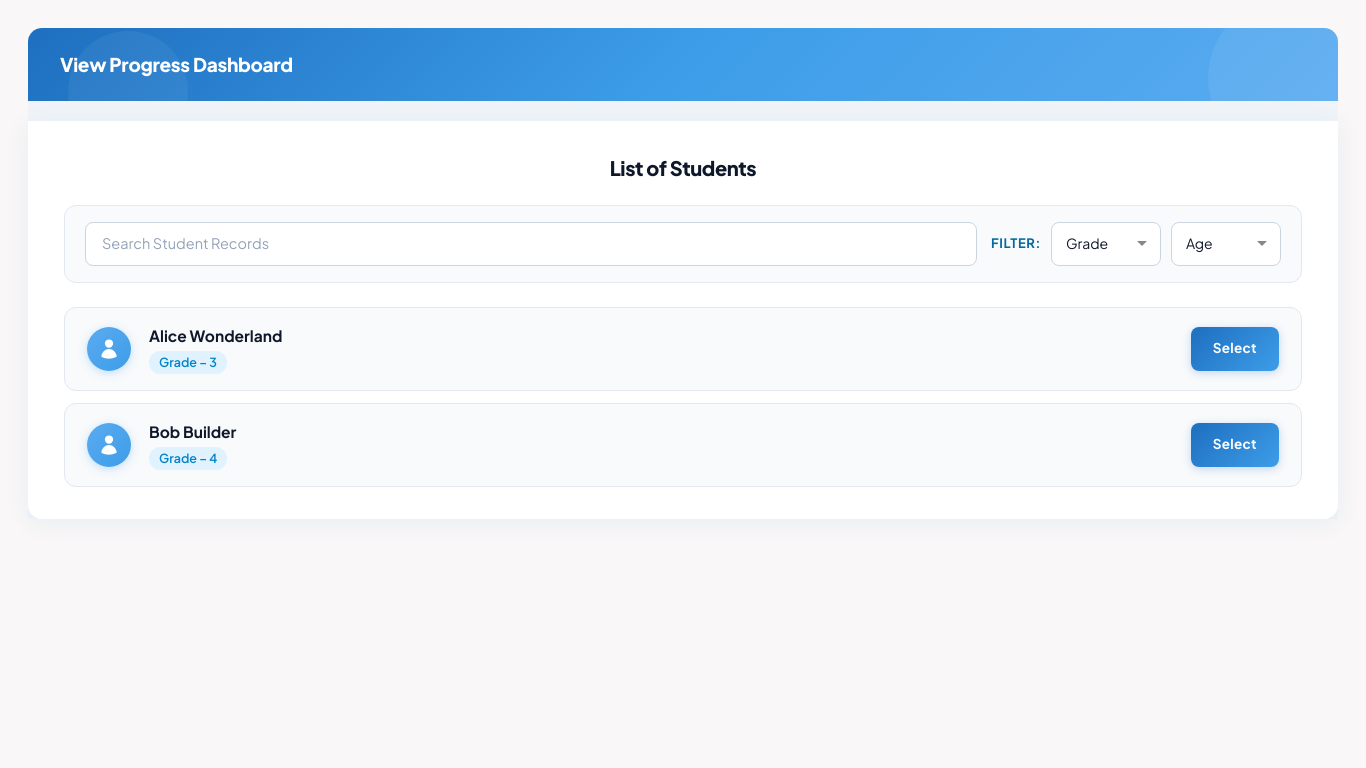
ViewProgressDashboard › renders Executive KPI Summary Cards with aggregate mastery rate and goal counts
Expected: the text "Alice Wonderland" is shown, [149, 326, 282, 344]
Click the button "Select" in the row of "Alice Wonderland". click: (1235,348)
box: [1191, 326, 1279, 370]
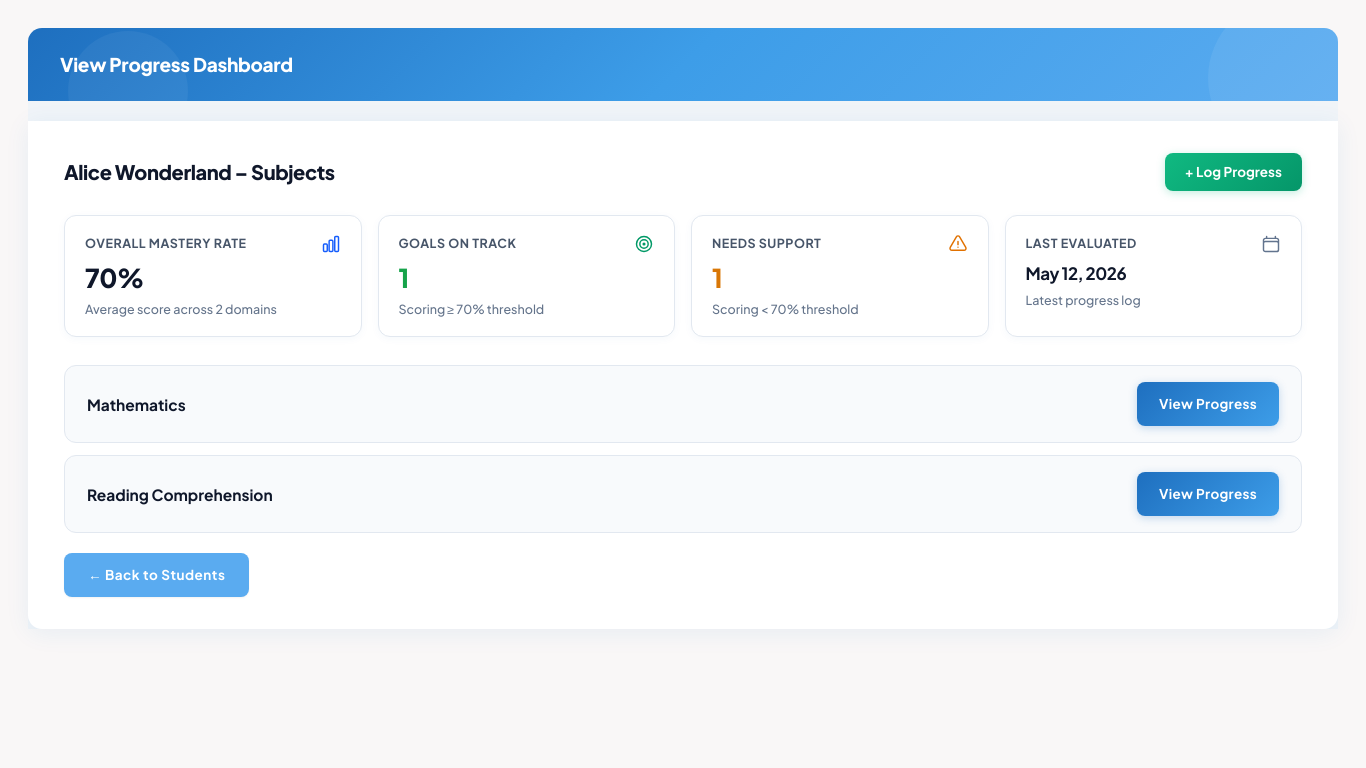
Result: the text "Overall Mastery Rate" is shown at [85, 234, 246, 253]
Result: the text "70%" is shown at [85, 261, 144, 294]
Result: the text "Goals on Track" is shown at [398, 234, 516, 253]
